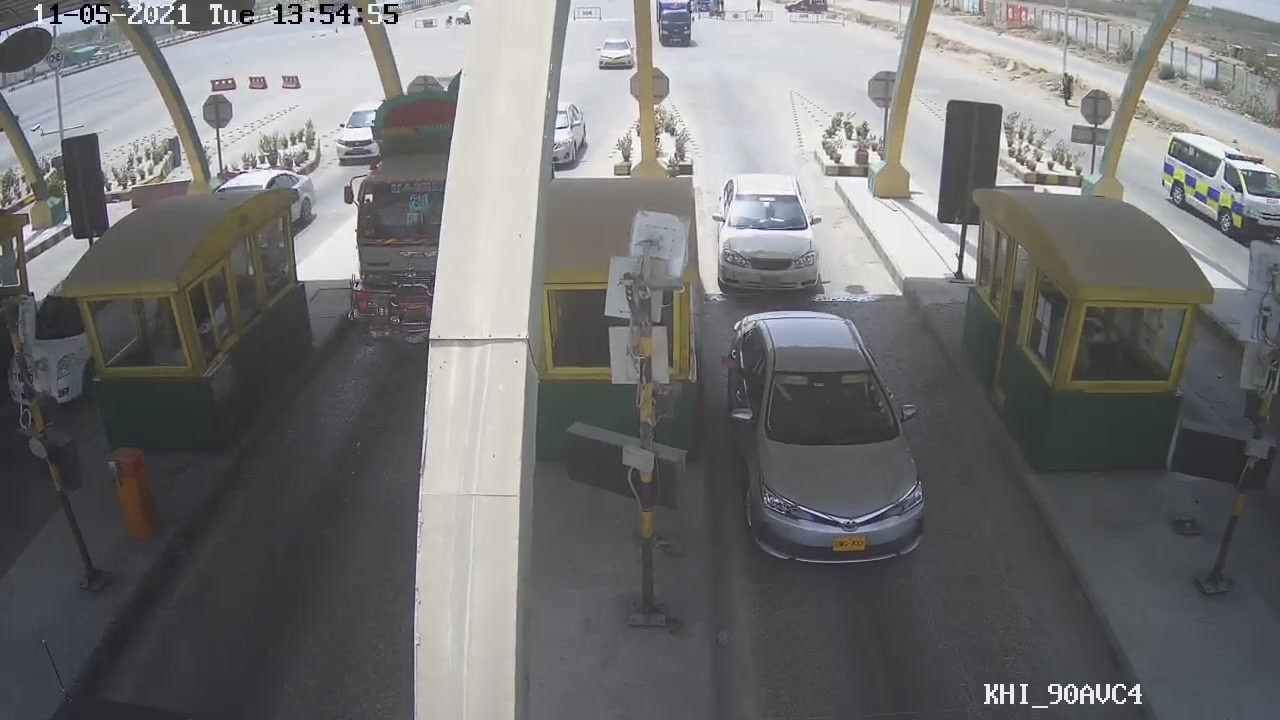F1: (717, 297, 931, 570), (698, 167, 836, 296)
